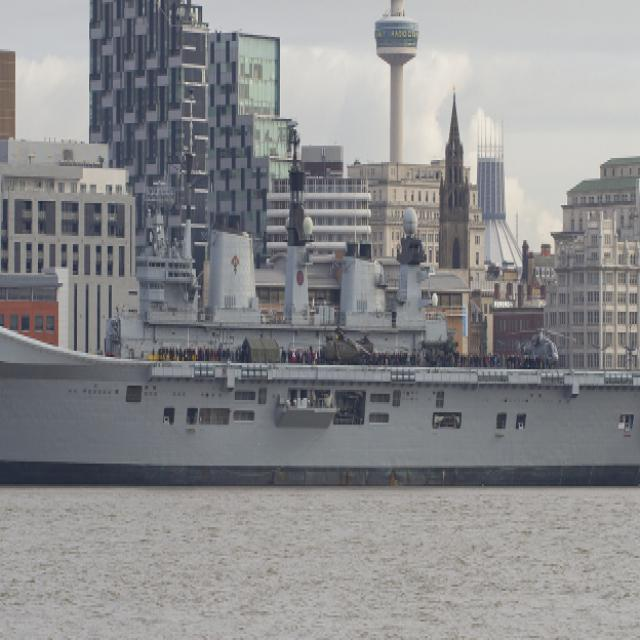Portanaves: (1, 42, 640, 485)
